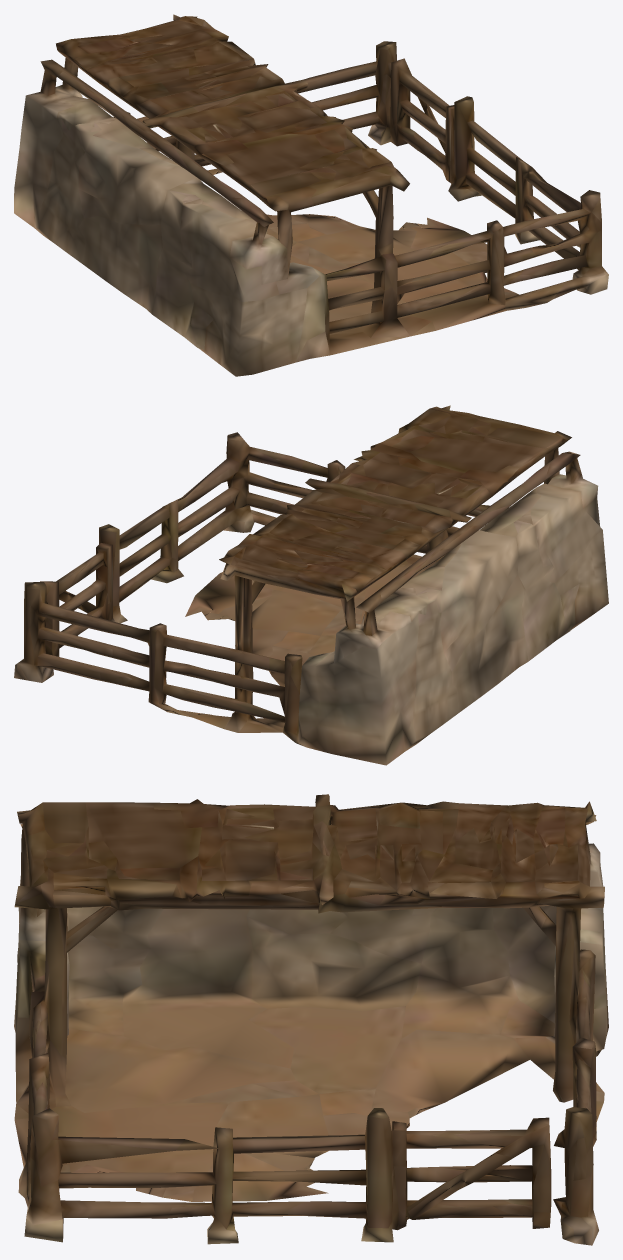
File: animal-pen-tripo-v2.glb
The picture shows the model from 3 angles, top to bottom: view 1: azimuth 30°, elevation 25°; view 2: azimuth 150°, elevation 25°; view 3: azimuth 270°, elevation 25°; orthographic projection. The views are drawn at different scales.
Parts seen in each view (by area): view 1: tripo_node_01fa5e70-7018-46a7-babd-0796fe5cecce; view 2: tripo_node_01fa5e70-7018-46a7-babd-0796fe5cecce; view 3: tripo_node_01fa5e70-7018-46a7-babd-0796fe5cecce.
Part boxes in pixels (bbox=[...]): tripo_node_01fa5e70-7018-46a7-babd-0796fe5cecce: bbox=[14, 14, 608, 376]; tripo_node_01fa5e70-7018-46a7-babd-0796fe5cecce: bbox=[14, 405, 608, 765]; tripo_node_01fa5e70-7018-46a7-babd-0796fe5cecce: bbox=[14, 794, 608, 1245].
Size of the model in its own units: 0.9672 by 0.4227 by 0.9965.
Materials: 1 (1 with a texture image).
